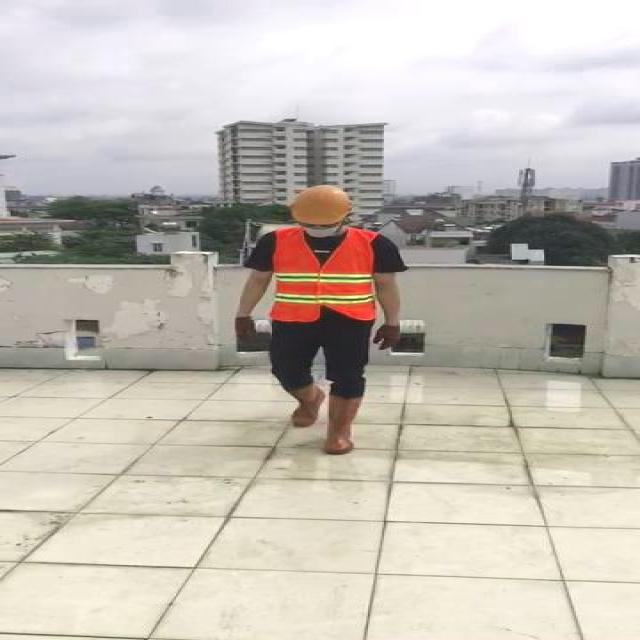boots: (326, 396, 366, 453), (288, 382, 329, 426)
hand_glove: (372, 325, 402, 351), (231, 314, 256, 337)
head_helmet: (287, 184, 357, 227)
person: (225, 184, 410, 456)
vest: (270, 228, 379, 321)
